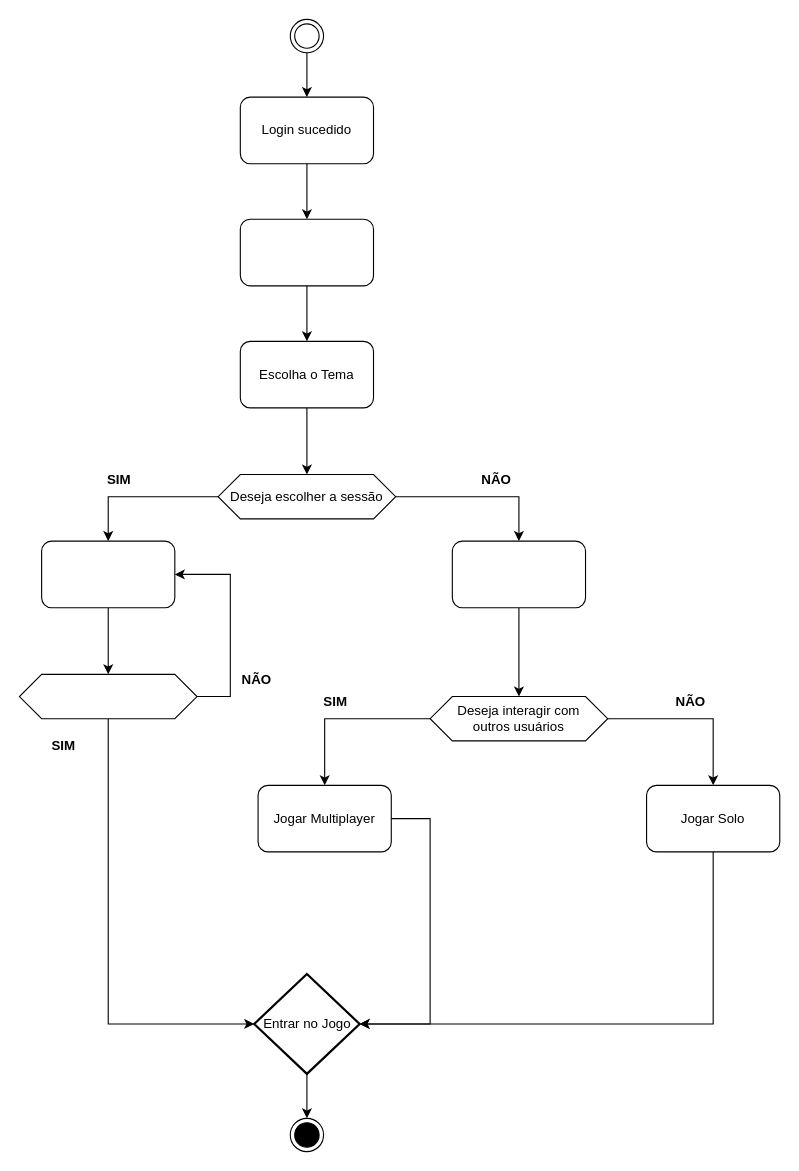
This 799x1171 diagram has some shape labels left out. The shapes that lost their labels are listed below. From the top down, each one's box as (x1, y1, x2, y2) in pixels, then its label:
(239, 218, 374, 286): Escolha a matéria
(41, 540, 175, 608): Informar a Sessão
(451, 540, 586, 608): Gerar Sessão aleatoria
(18, 673, 197, 719): Sessão válida
